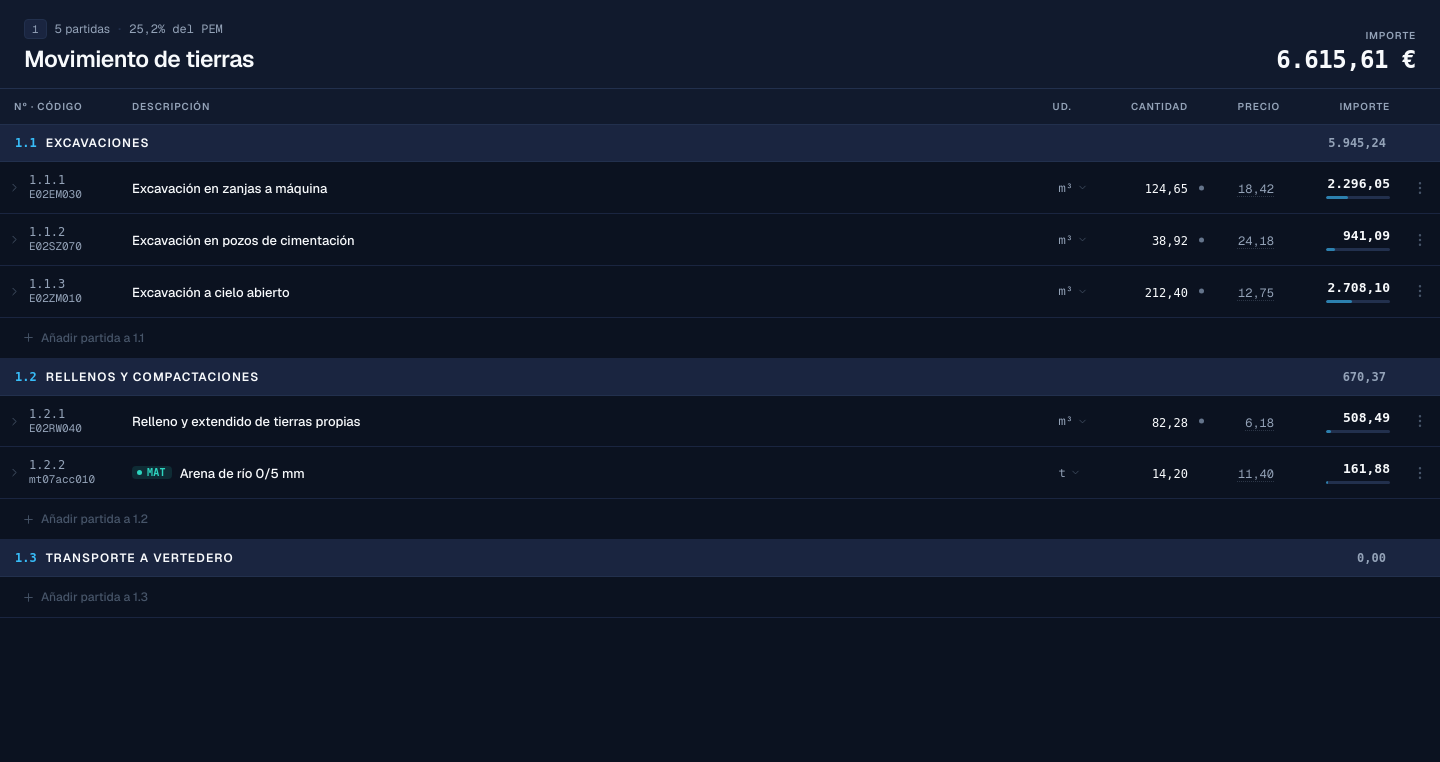
Test: justificación: copy-on-write de recurso compartido › editar el tipo de un recurso compartido pregunta; "Crear copia" forka y deja las demás intactas
The width and height of the screenshot is (1440, 762).
Step 1. Click the text "E02EM030" → (55, 195), box [29,188,82,202]
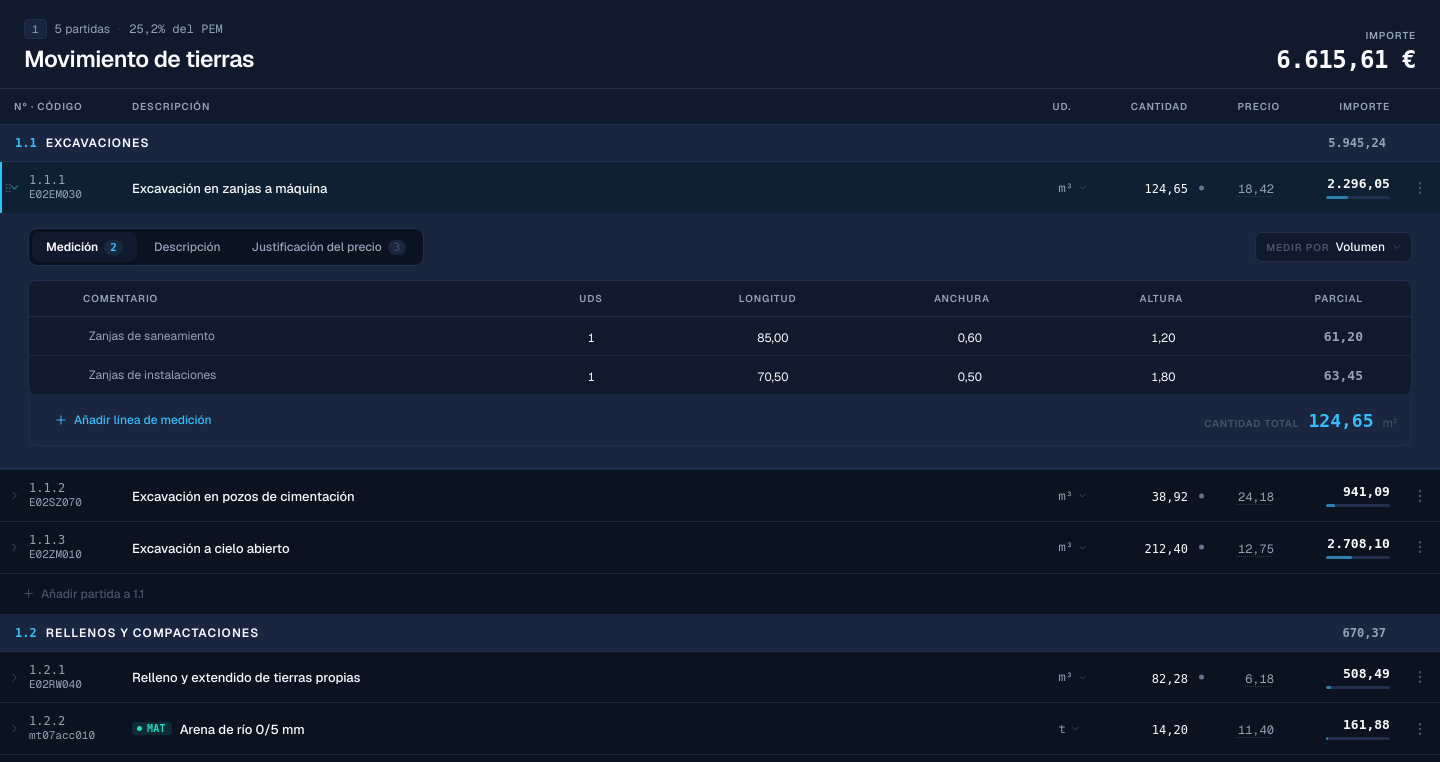
Step 2. Click the button "Justificación del precio 3" → (329, 247), box [238,232,420,262]
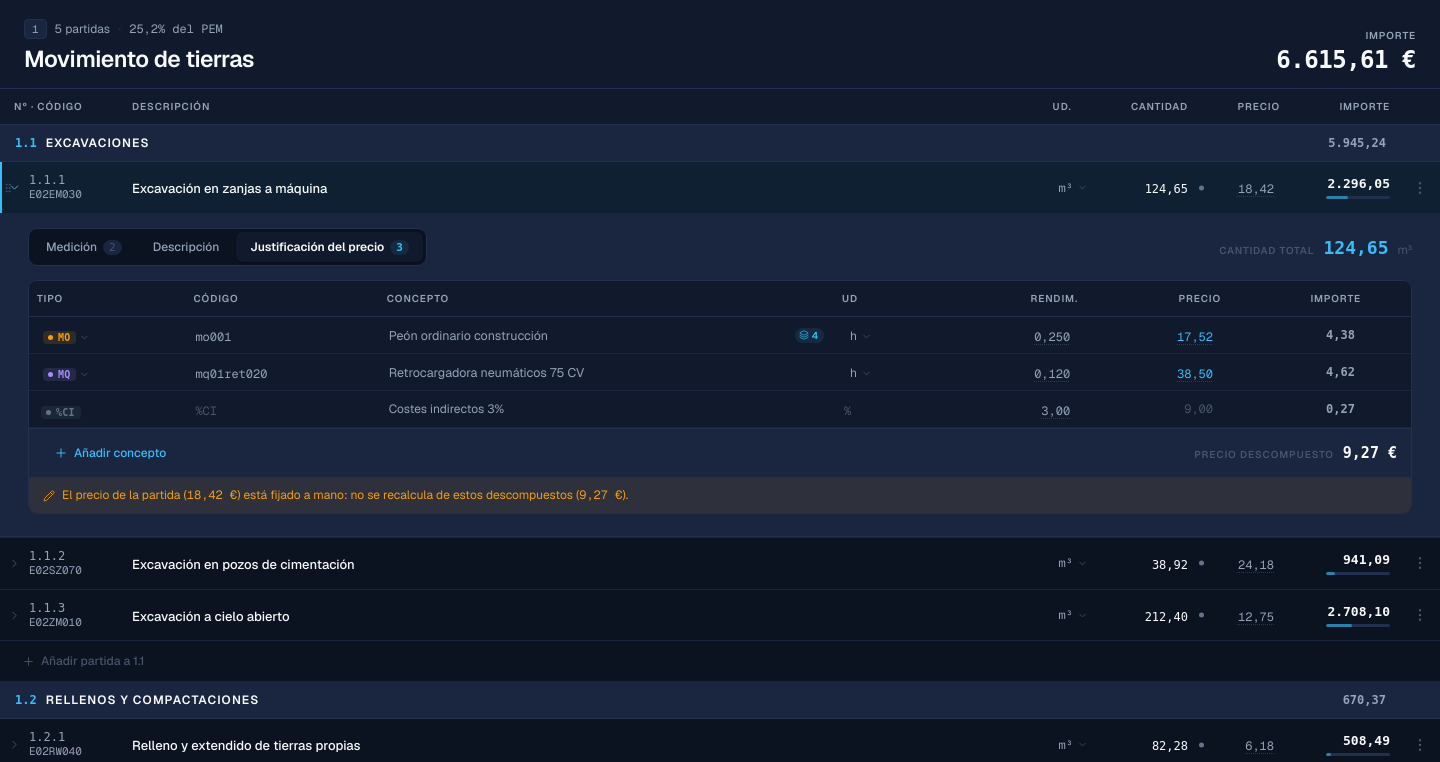
Step 3. Click the button with aria-label "Tipo de recurso" → (67, 338), box [41,329,94,346]
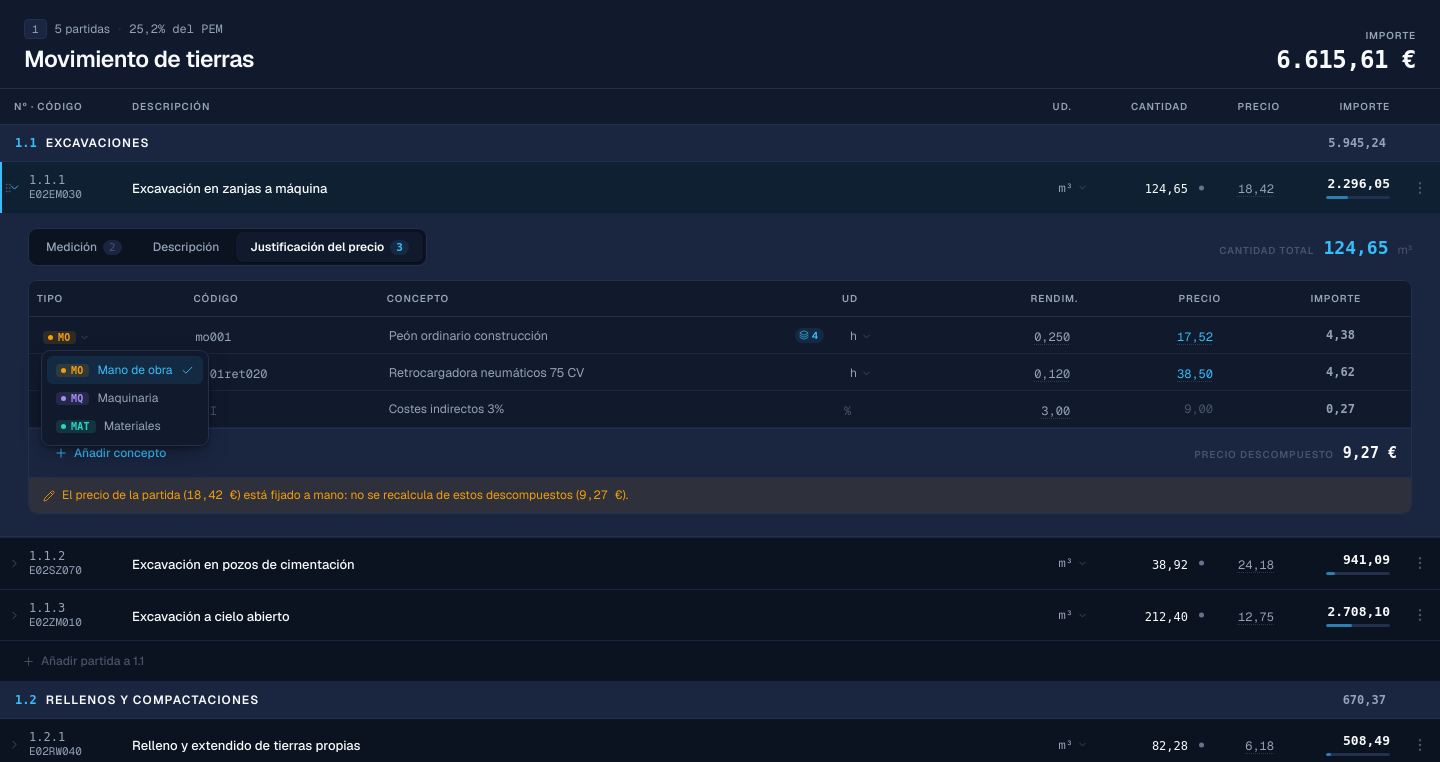
Step 4. Click the option "MAT Materiales" → (125, 426), box [47,412,203,440]
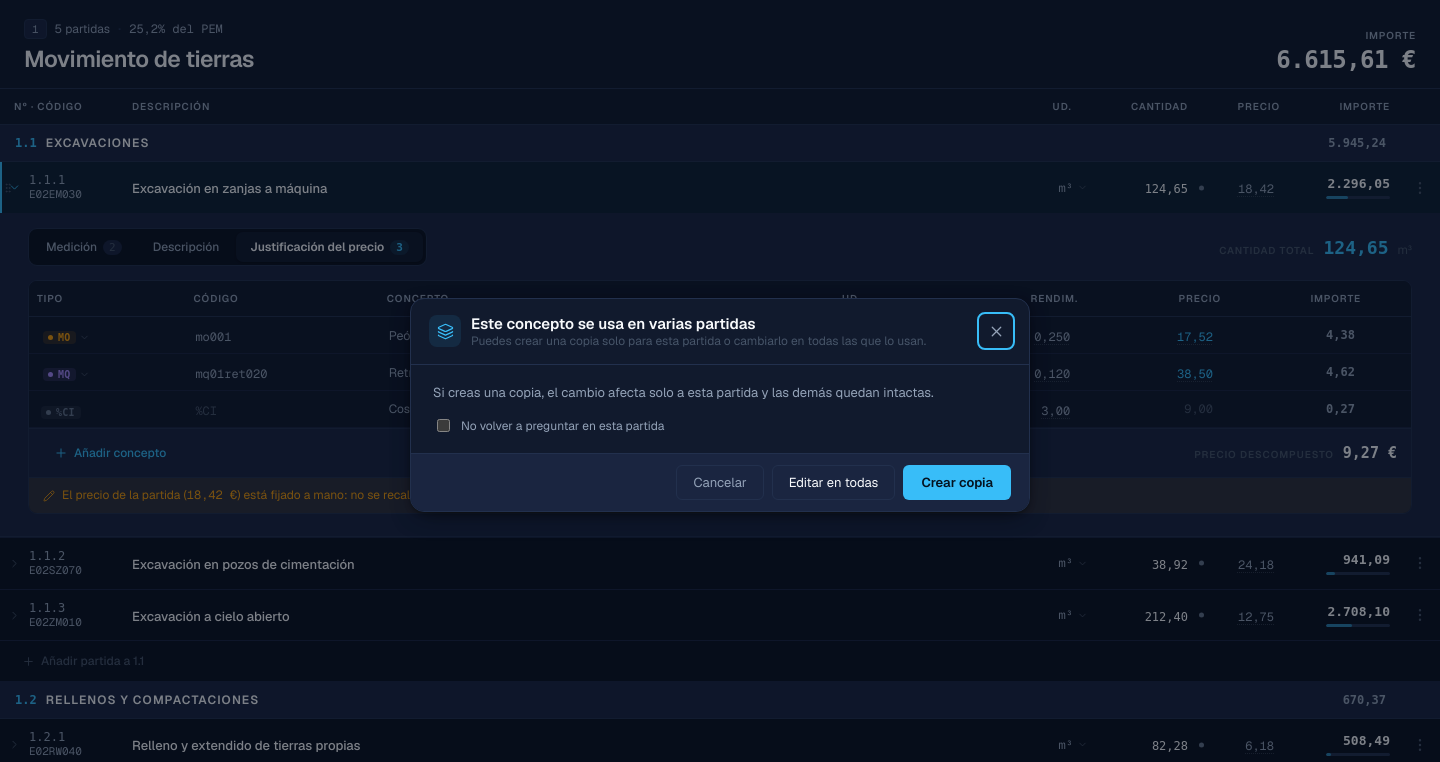
Step 5. Click the button "Crear copia" → (957, 483), box [903,465,1011,500]
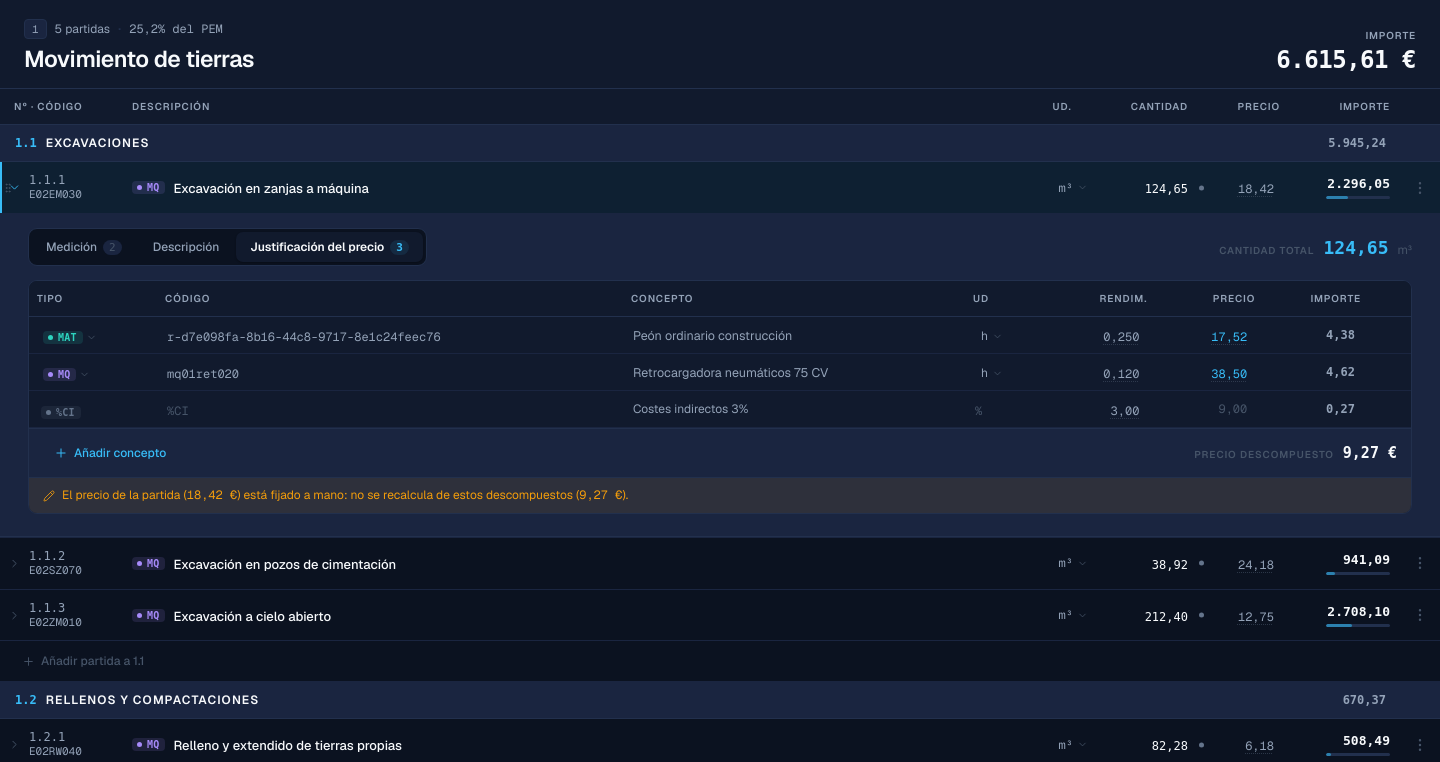
Check: the element showing "MAT" is shown, box [43,331,83,344]
